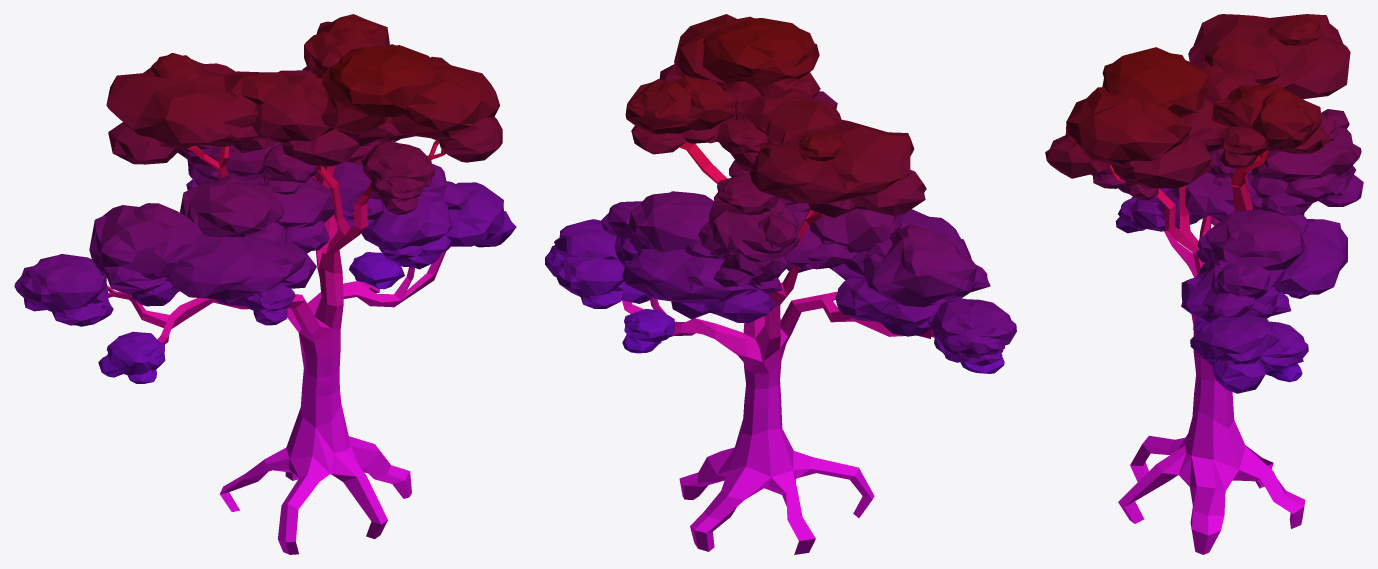
The model's file is synty-tree-large-01.gltf.
The picture shows the model from 3 angles, left to right: view 1: azimuth 30°, elevation 25°; view 2: azimuth 150°, elevation 25°; view 3: azimuth 270°, elevation 25°; orthographic projection.
Visible parts, largest first — view 1: SM_Tree_Large_01; view 2: SM_Tree_Large_01; view 3: SM_Tree_Large_01.
Boxes of the visible parts, box(x1,y1,x2,y2) form: SM_Tree_Large_01: box(14, 14, 516, 554); SM_Tree_Large_01: box(545, 14, 1016, 554); SM_Tree_Large_01: box(1045, 14, 1363, 554).
Size of the model in its own units: 9.3 by 8.83 by 5.42.
